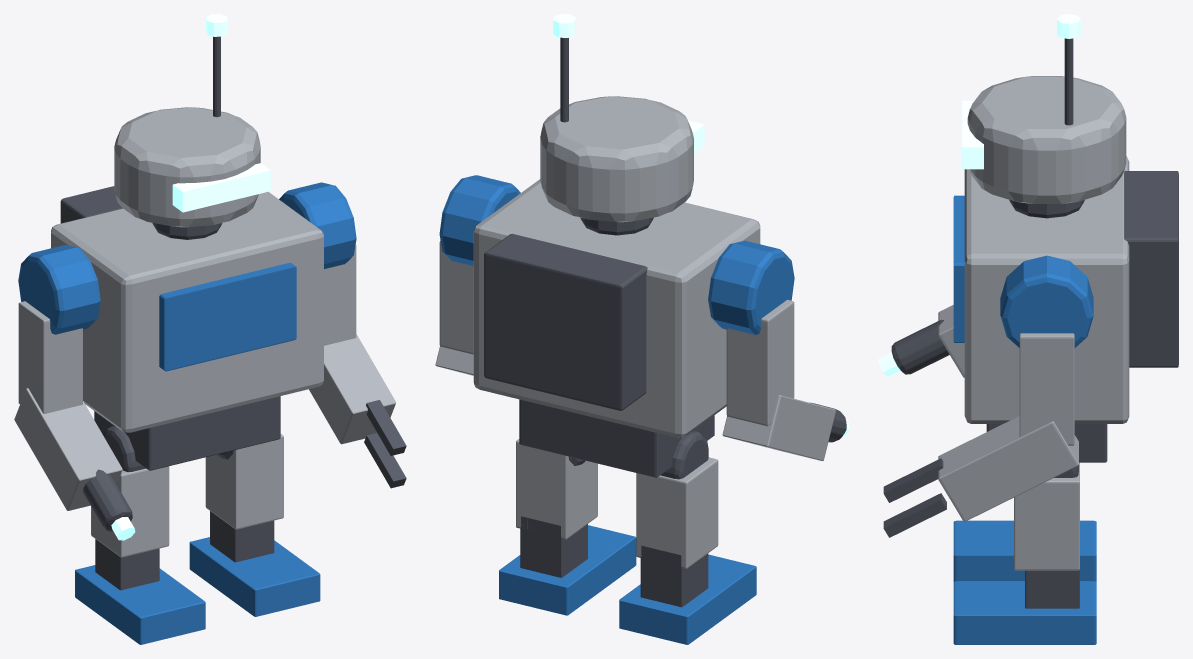
Rendered from builder_bot.glb.
3 views of the same model, side by side, from view 1: azimuth 30°, elevation 25°; view 2: azimuth 150°, elevation 25°; view 3: azimuth 270°, elevation 25° (orthographic). The views are drawn at different scales.
Visible parts, largest first — view 1: Torso, Head, Chest, Forearm, Hips, Foot.001, Foot, Thigh.001, UpperArm, Shoulder, Forearm.001, Thigh (+12 smaller); view 2: Torso, Pack, Head, Hips, Thigh, UpperArm, Foot, Foot.001, Shoulder, Thigh.001, Forearm, Shoulder.001 (+7 smaller); view 3: Torso, Head, Pack, Forearm.001, Foot.001, Shoulder.001, Thigh.001, UpperArm.001, Foot, Shin.001, Nozzle, Chest (+8 smaller).
Part boxes in pixels (box(x1,y1,x2,y2)): Torso: box(51, 191, 323, 432); Head: box(114, 107, 260, 227); Chest: box(159, 263, 296, 371); Forearm: box(14, 388, 122, 510); Hips: box(94, 396, 280, 470); Foot.001: box(189, 537, 320, 616); Foot: box(75, 565, 205, 644); Thigh.001: box(205, 434, 283, 529); UpperArm: box(18, 301, 82, 413); Shoulder: box(18, 245, 100, 334); Forearm.001: box(309, 334, 395, 444); Thigh: box(91, 466, 169, 557); Torso: box(473, 179, 760, 437); Pack: box(484, 233, 647, 410); Head: box(540, 96, 693, 222); Hips: box(519, 399, 714, 477); Thigh: box(636, 457, 718, 568); UpperArm: box(726, 299, 794, 426); Foot: box(619, 554, 756, 644); Foot.001: box(499, 525, 636, 615); Shoulder: box(708, 240, 794, 334); Thigh.001: box(516, 439, 597, 539); Forearm: box(722, 395, 835, 460); Shoulder.001: box(439, 175, 520, 265); Torso: box(964, 156, 1129, 423); Head: box(967, 76, 1126, 203); Pack: box(1124, 171, 1178, 367); Forearm.001: box(938, 416, 1078, 521); Foot.001: box(953, 581, 1096, 644); Shoulder.001: box(1000, 255, 1093, 347); Thigh.001: box(1014, 462, 1079, 570); UpperArm.001: box(1019, 333, 1074, 445); Foot: box(953, 520, 1096, 581); Shin.001: box(1025, 569, 1079, 608); Nozzle: box(891, 319, 949, 374); Chest: box(953, 195, 964, 342).
Size of the model in its own units: 0.72 by 1.21 by 0.5478.
